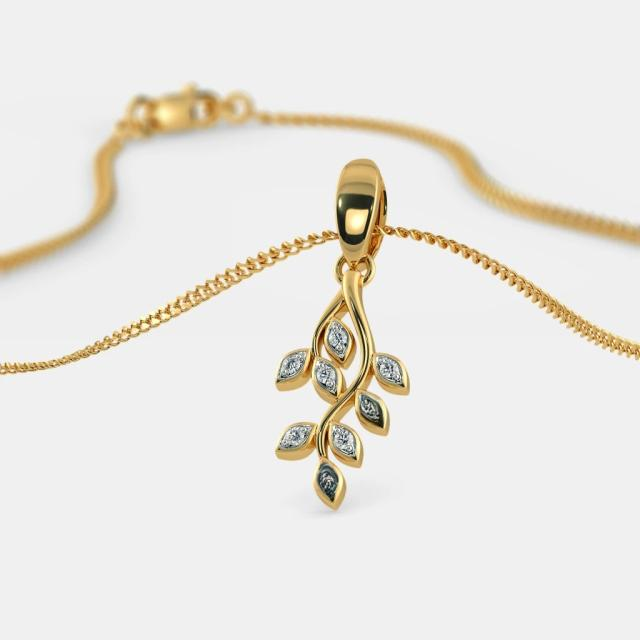missing gem: (315, 464, 340, 502), (359, 392, 385, 427)
